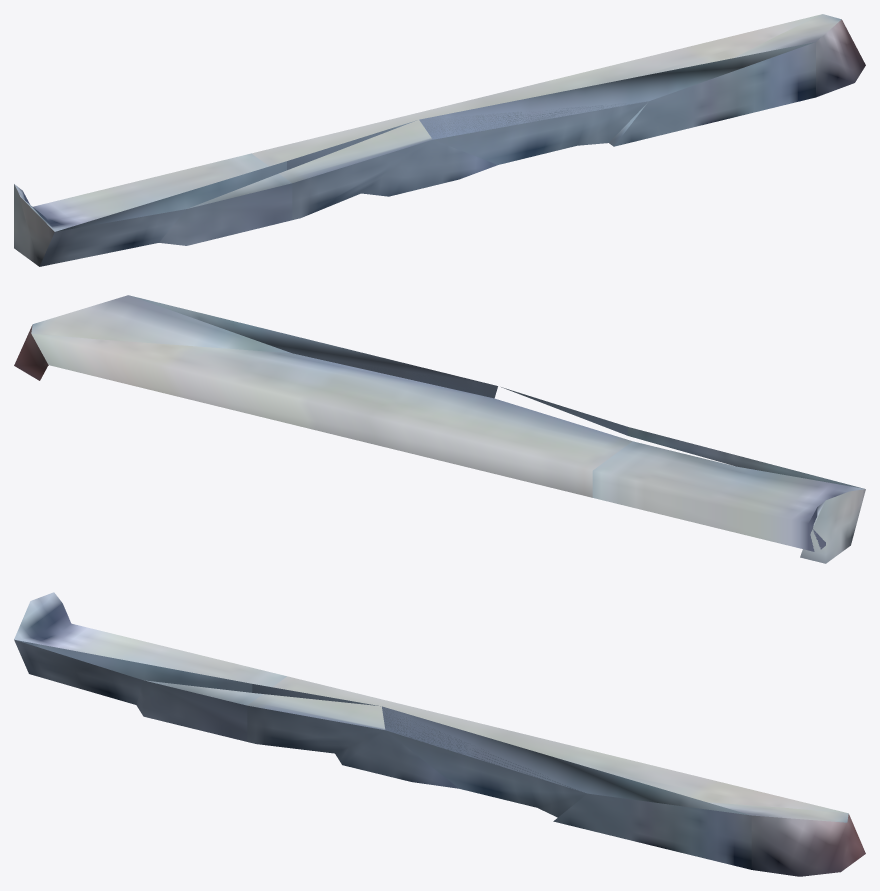
The picture shows the model from 3 angles, top to bottom: view 1: azimuth 30°, elevation 25°; view 2: azimuth 150°, elevation 25°; view 3: azimuth 330°, elevation 25°; orthographic projection.
Visible parts, largest first — view 1: 3043627270436140744_0; view 2: 3043627270436140744_0; view 3: 3043627270436140744_0.
Boxes of the visible parts, left/top/right/bottom form: 3043627270436140744_0: left=14, top=14, right=865, bottom=266; 3043627270436140744_0: left=14, top=295, right=865, bottom=563; 3043627270436140744_0: left=14, top=592, right=865, bottom=876.
Size of the model in its own units: 29.15 by 2.47 by 2.78.
Materials: 1 (1 with a texture image).
